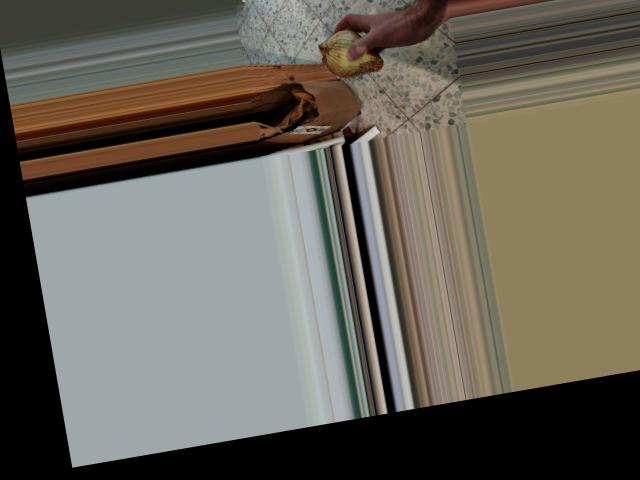onion: (313, 16, 389, 85)
